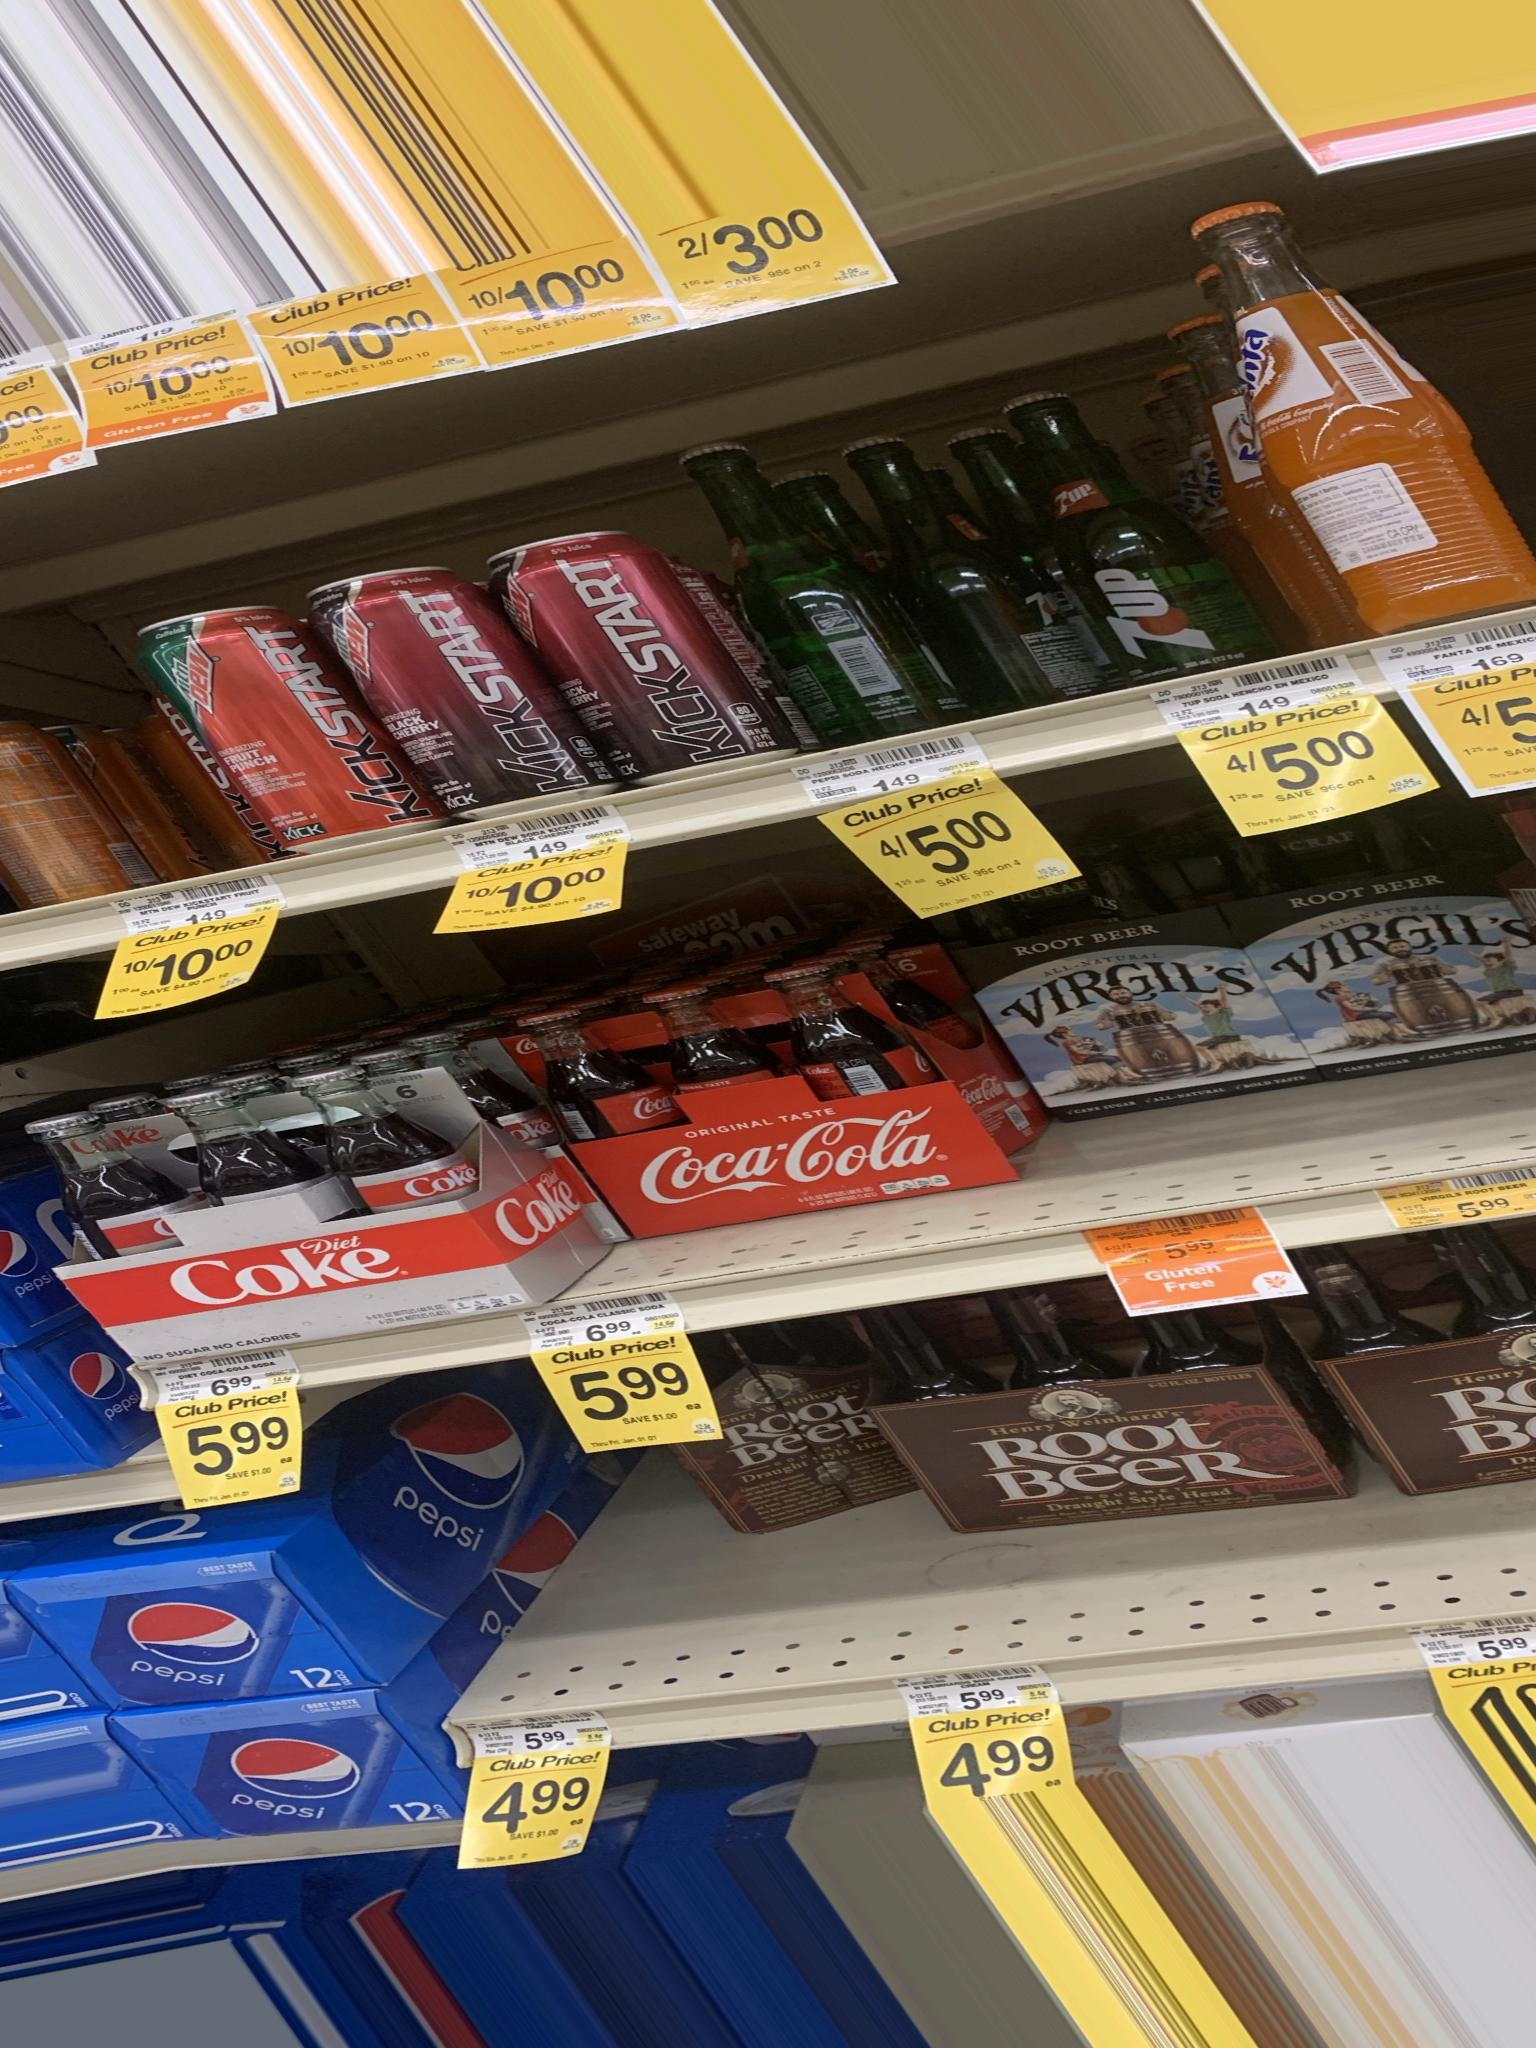soda: (92, 1047, 465, 1384), (529, 993, 986, 1214), (870, 1338, 1300, 1521), (44, 1508, 329, 1738)
